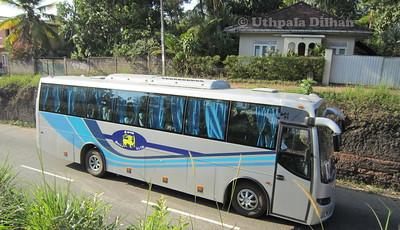bus: (38, 64, 350, 228)
